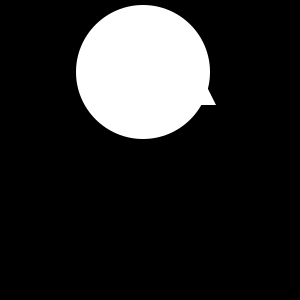rectangle: (76, 5, 210, 139)
triangle: (126, 15, 216, 105), (124, 93, 141, 110)
